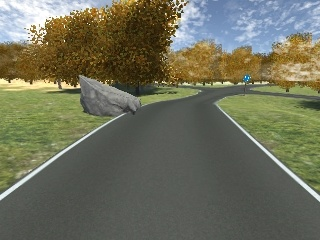Stone: (75, 72, 144, 120)
